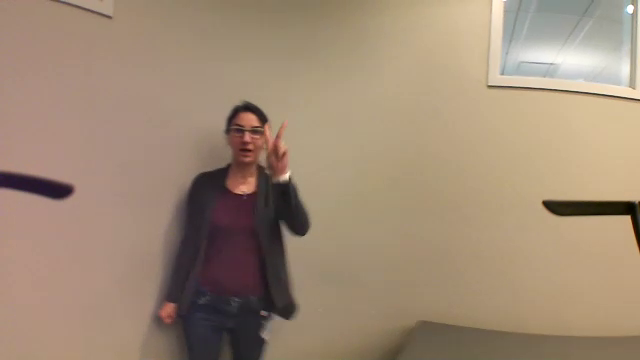peace: (258, 118, 298, 179)
